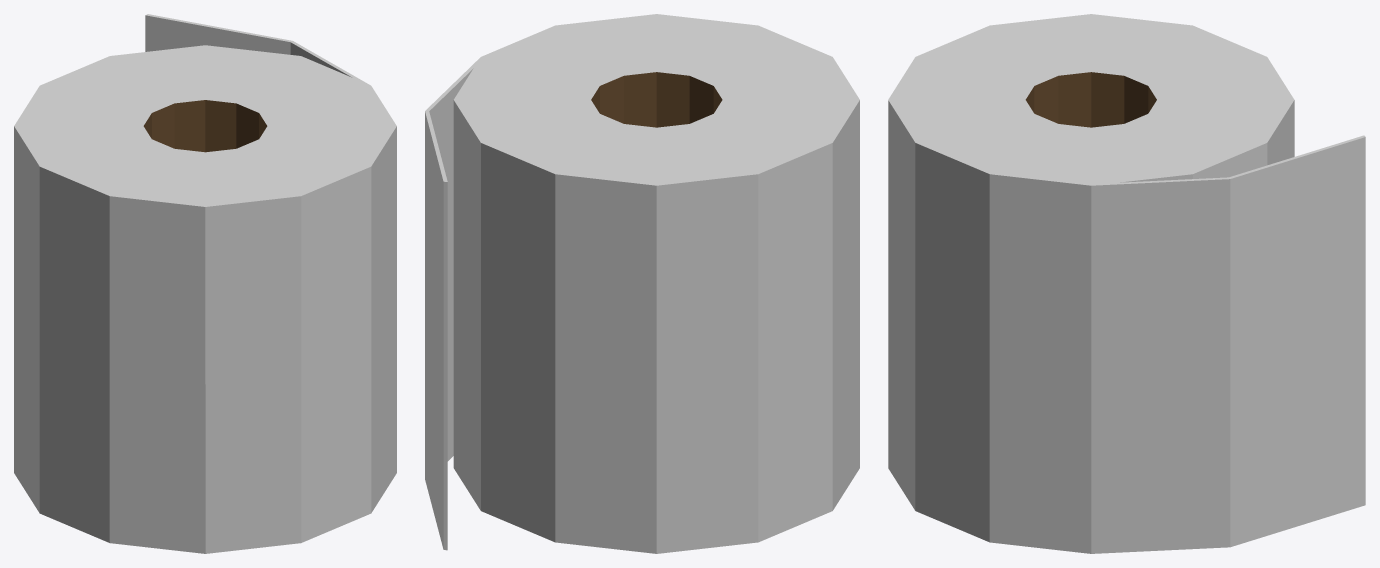
Rendered from TissueRoll.fbx.
3 renders of one model, left to right at view 1: azimuth 30°, elevation 25°; view 2: azimuth 150°, elevation 25°; view 3: azimuth 270°, elevation 25°, orthographic. The views are drawn at different scales.
Parts seen in each view (by area): view 1: Cylinder, Cylinder.003; view 2: Cylinder, Cylinder.003; view 3: Cylinder, Cylinder.003.
Part boxes in pixels (<box>): Cylinder: <box>14,14,396,553</box>; Cylinder.003: <box>143,100,267,152</box>; Cylinder: <box>425,14,859,553</box>; Cylinder.003: <box>591,72,722,127</box>; Cylinder: <box>888,14,1365,553</box>; Cylinder.003: <box>1025,72,1156,127</box>.
Bounding box in the file's own units: 9.8 × 9.8 × 11.52.
